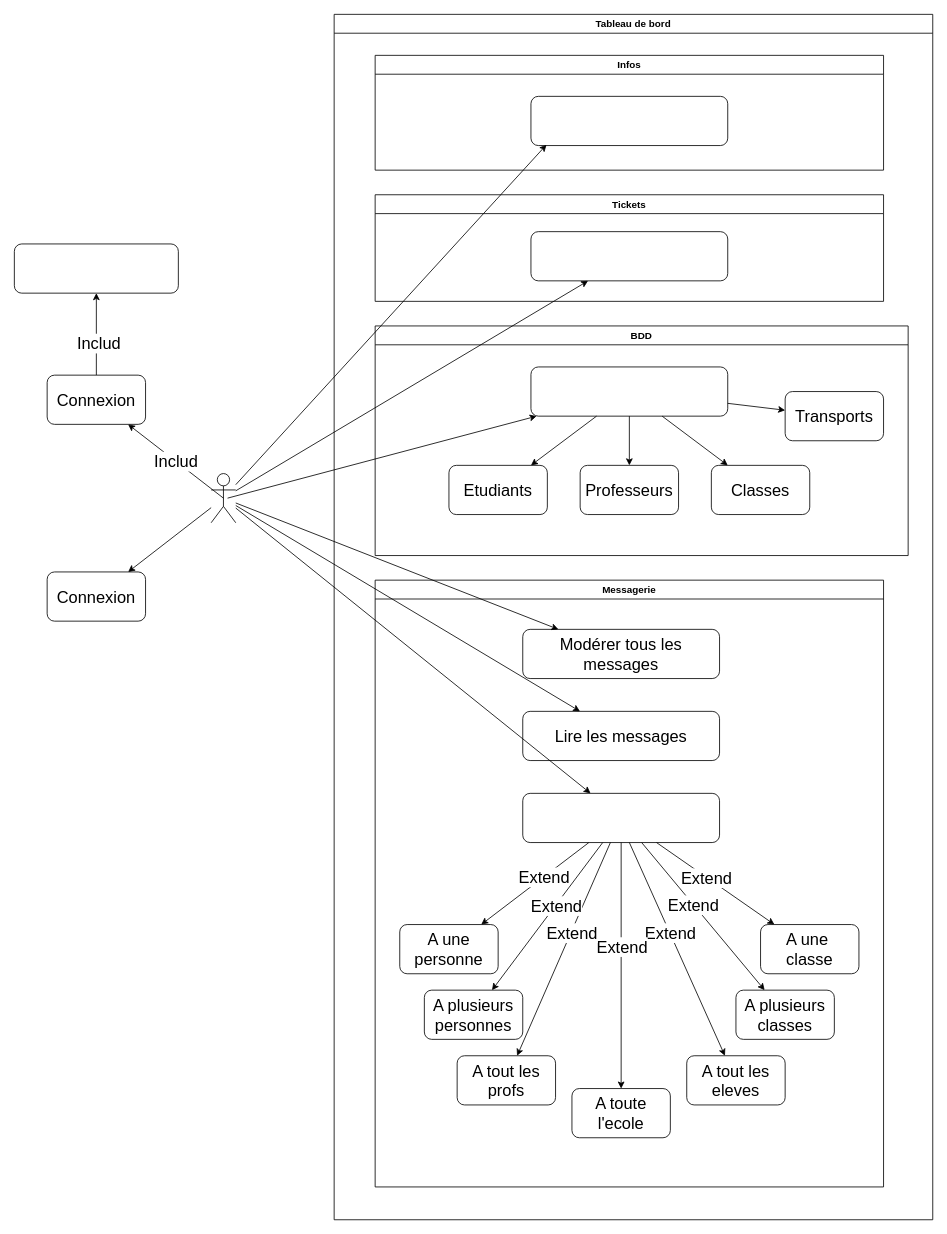
Image size: 947x1234. Some labels were removed from this diagram. Here are the shapes that lost their labels. From the top down, the centre of each, then its label:
At point 629,121: "Voir les flux RSS".
At point 96,268: "Authentification".
At point 629,256: "Éditer les tickets".
At point 629,391: "Gérer la BDD".
At point 223,498: "Admin".
At point 621,818: "Envoyer des messages".
